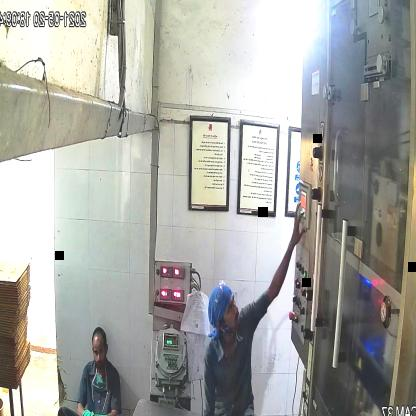no_goggles: (219, 293, 240, 323), (88, 339, 113, 361)
